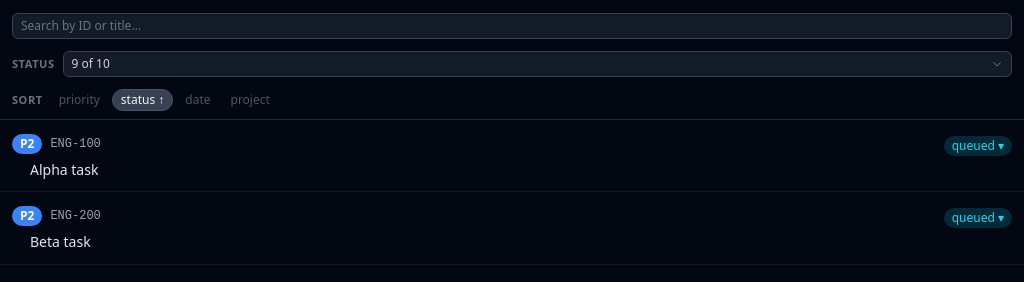
Test: TaskList › filters tasks by linearIssueId search
Type "ENG-100" into the field with placeholder "Search by ID or title…".
click(512, 26); type("ENG-100")  # box [12,13,1012,39]
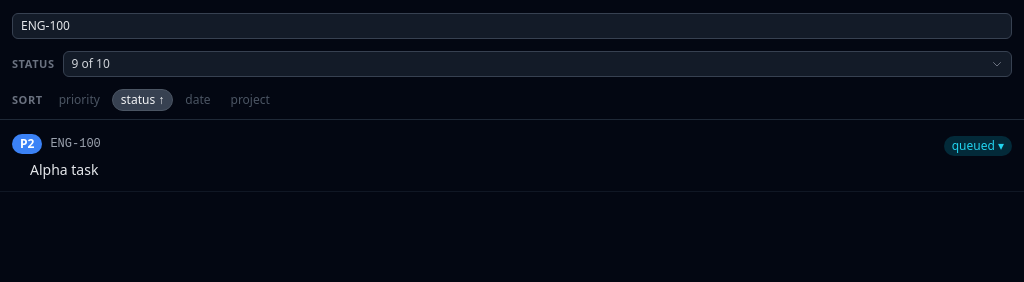
expect the text "ENG-100" is shown: met, box [50,136,101,152]
expect the button "ENG-200" is gone: met
